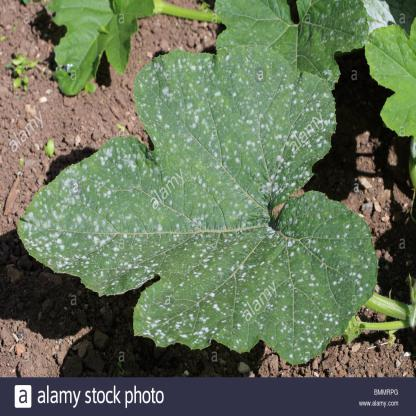squash powdery mildew leaf: (13, 38, 372, 368)
